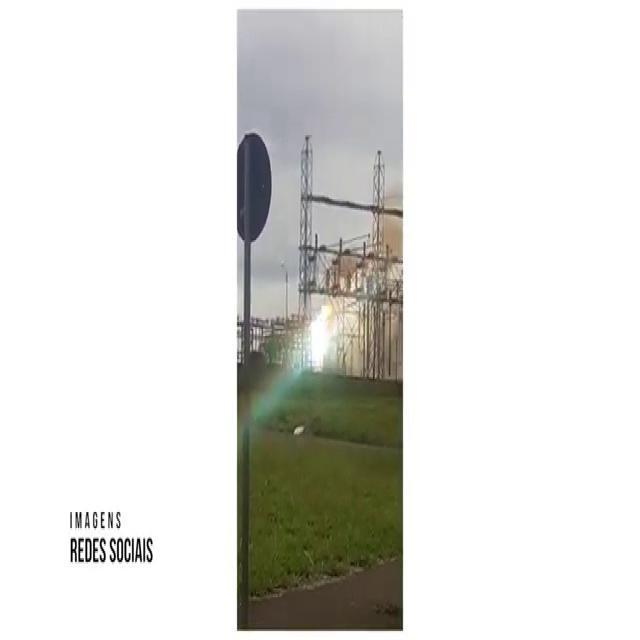Fire: (309, 300, 332, 372)
Smoke: (336, 196, 398, 280)
